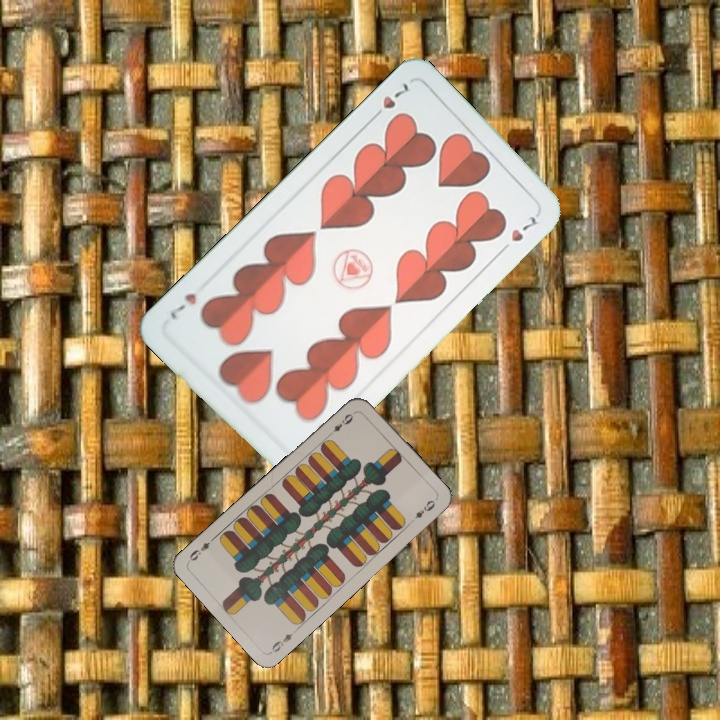E9: (268, 625, 300, 655), (325, 409, 356, 438)
H7: (366, 78, 414, 124)
